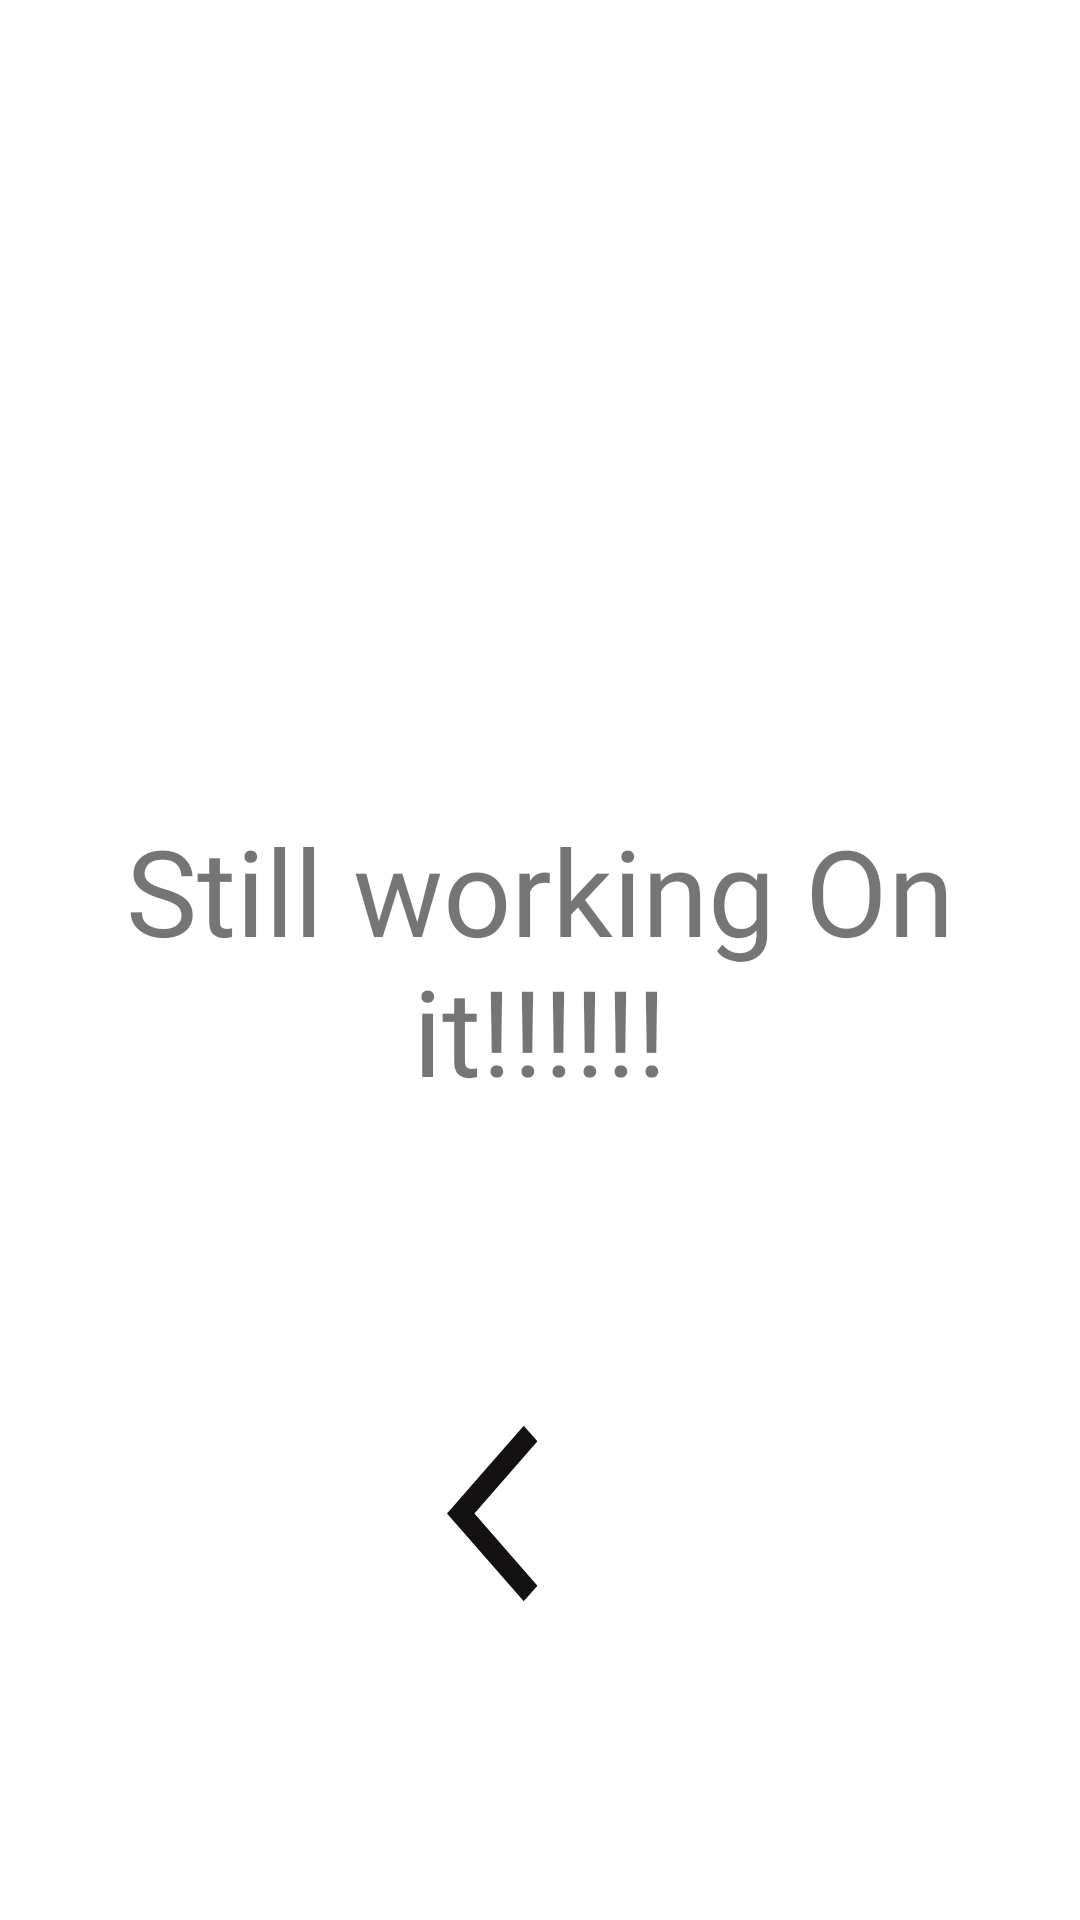

Point at icon controls on the screen. Image size 1080 × 1920, points as (x,y).
back home: (492,1513)
